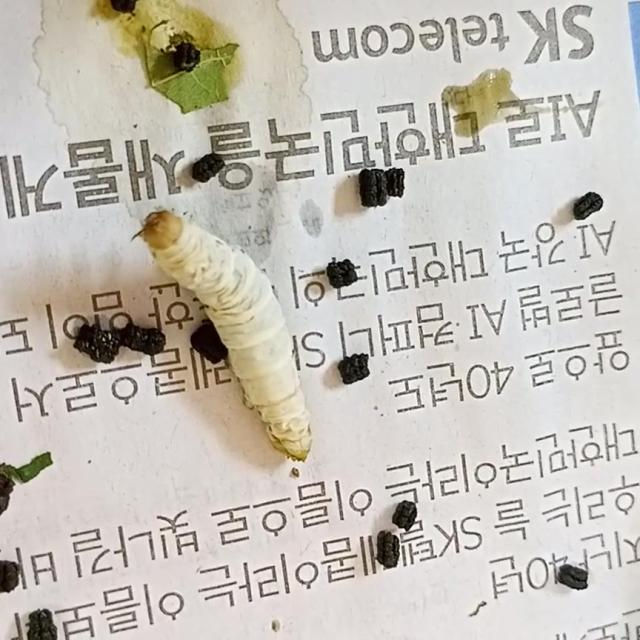Grasserie: (100, 187, 342, 502)
